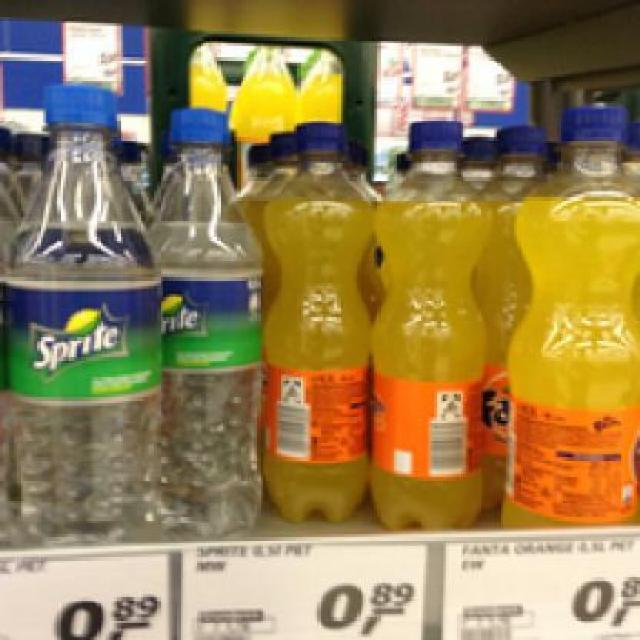Fanta: (494, 103, 637, 520), (374, 117, 489, 526), (260, 117, 374, 520)
